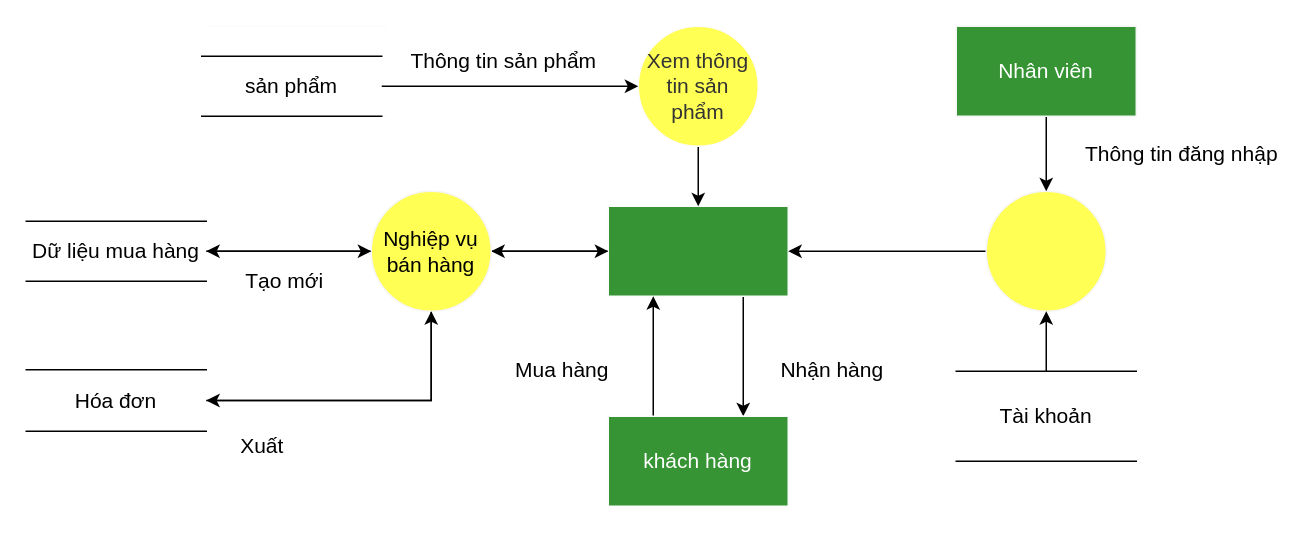
Image size: 1313x533. Some labels were removed from this diagram. The box of each missing label's shape, as (x1, y1, x2, y2) in pixels:
Thu ngân: (607, 205, 788, 296)
Đăng nhập: (985, 190, 1106, 311)
